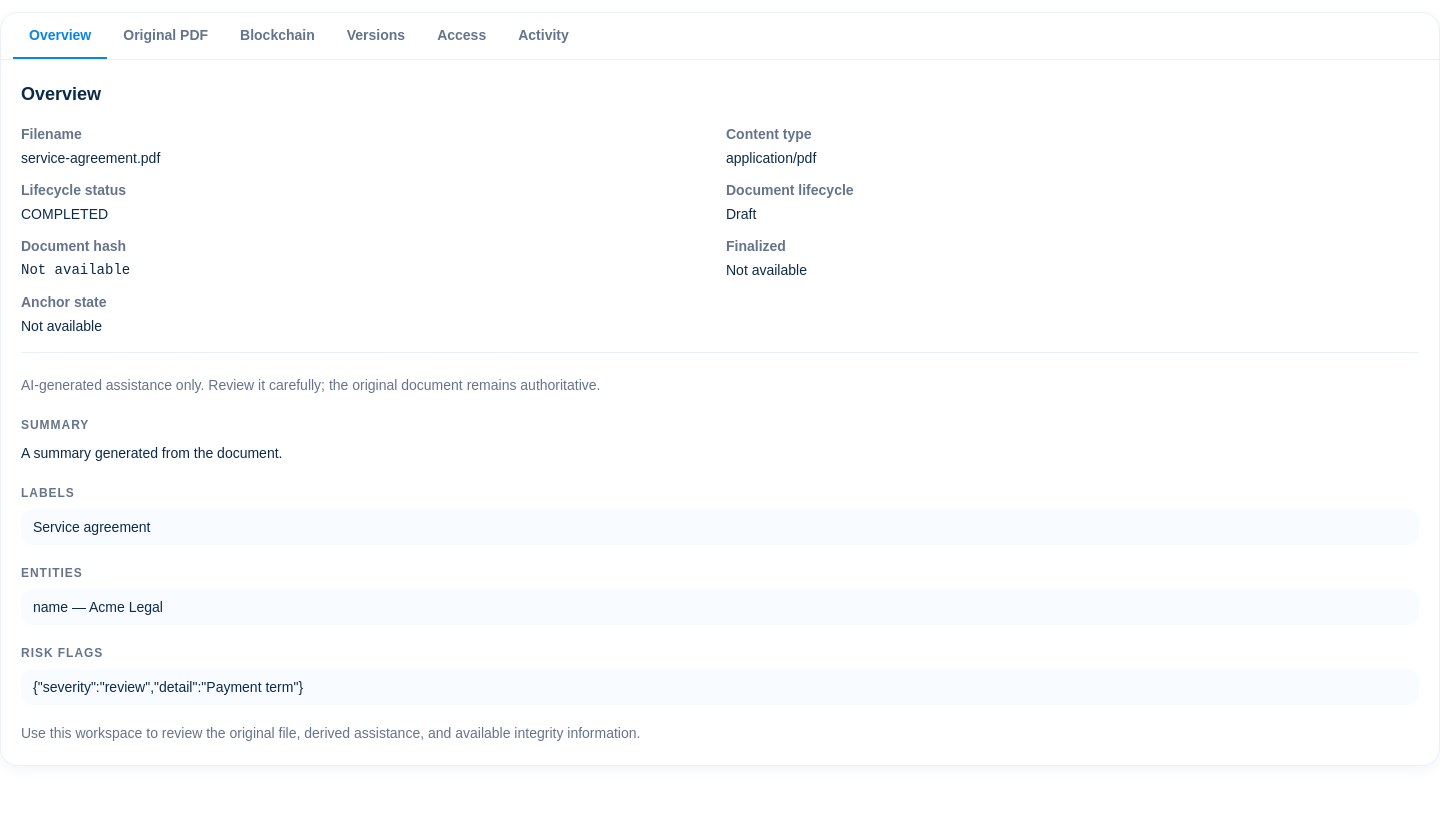
Test: DocumentWorkspace › shows the API version history instead of only demo snapshots
The width and height of the screenshot is (1440, 822).
Click the tab "Versions": (376, 36) [331,13,421,59]
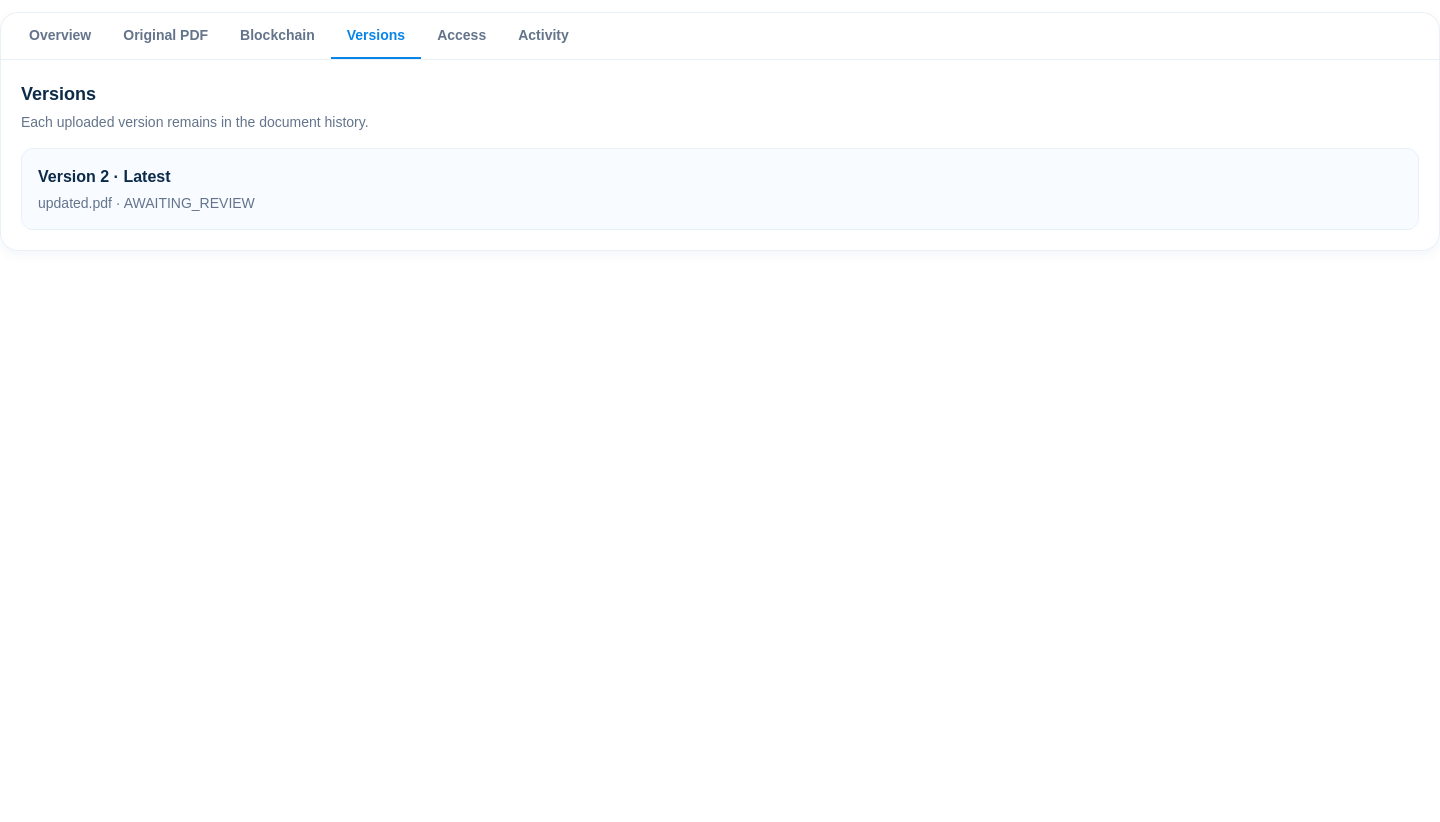
Expected: the text "Version 2 · Latest" is shown, [38,168,170,185]
